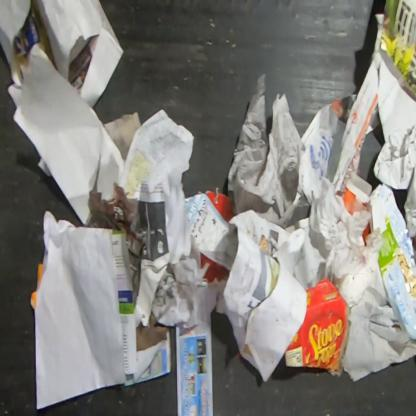cardboard: (284, 278, 346, 371), (205, 187, 233, 222), (200, 253, 228, 281)
